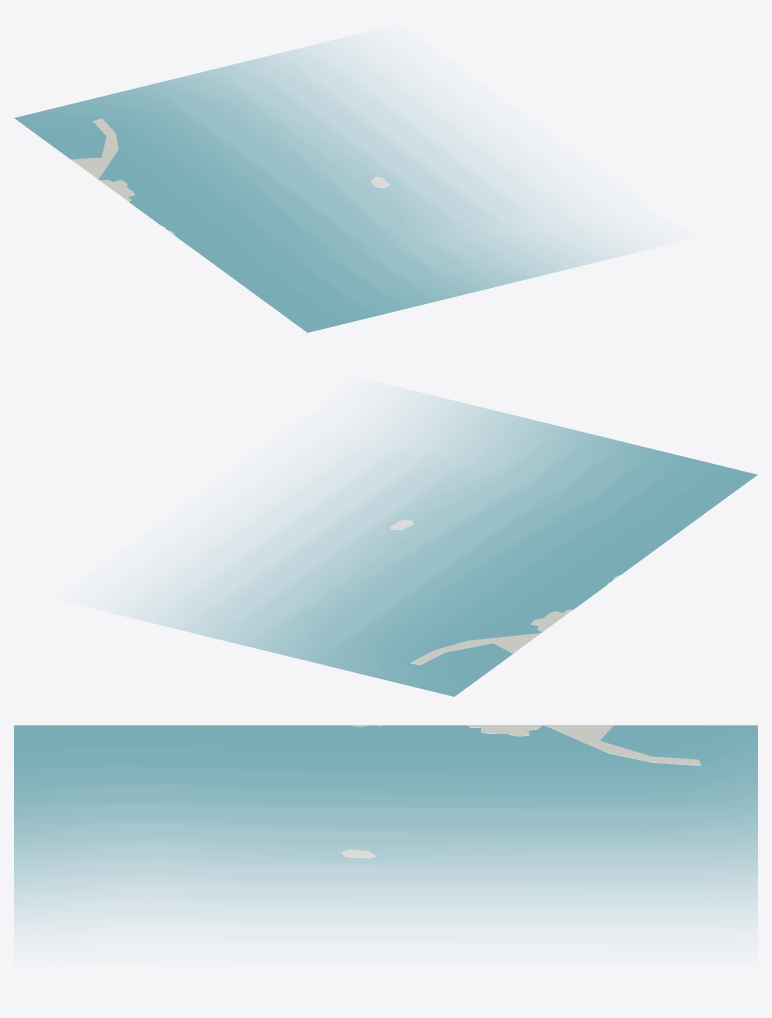
3 views of the same model, one above another, from view 1: azimuth 30°, elevation 25°; view 2: azimuth 150°, elevation 25°; view 3: azimuth 270°, elevation 25° (orthographic). The views are drawn at different scales.
Visible parts, largest first — view 1: city; view 2: city; view 3: city.
Part boxes in pixels (x1=…): city: x1=14, y1=40, x2=639, y2=332; city: x1=121, y1=391, x2=757, y2=696; city: x1=14, y1=725, x2=757, y2=930.
Bounding box in the file's own units: 443 × 0.18 × 500.
